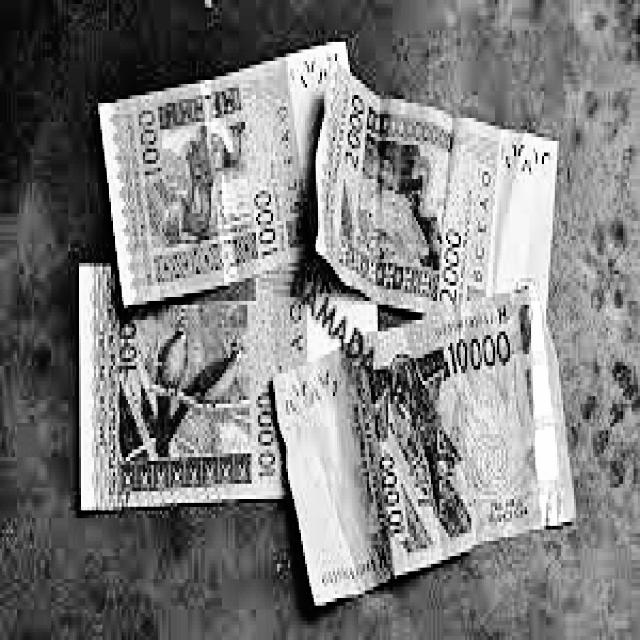niaar junni: (276, 290, 574, 605), (82, 259, 376, 509)
niaar teemeer: (99, 42, 346, 306)
nient teemeer: (316, 65, 556, 312)
